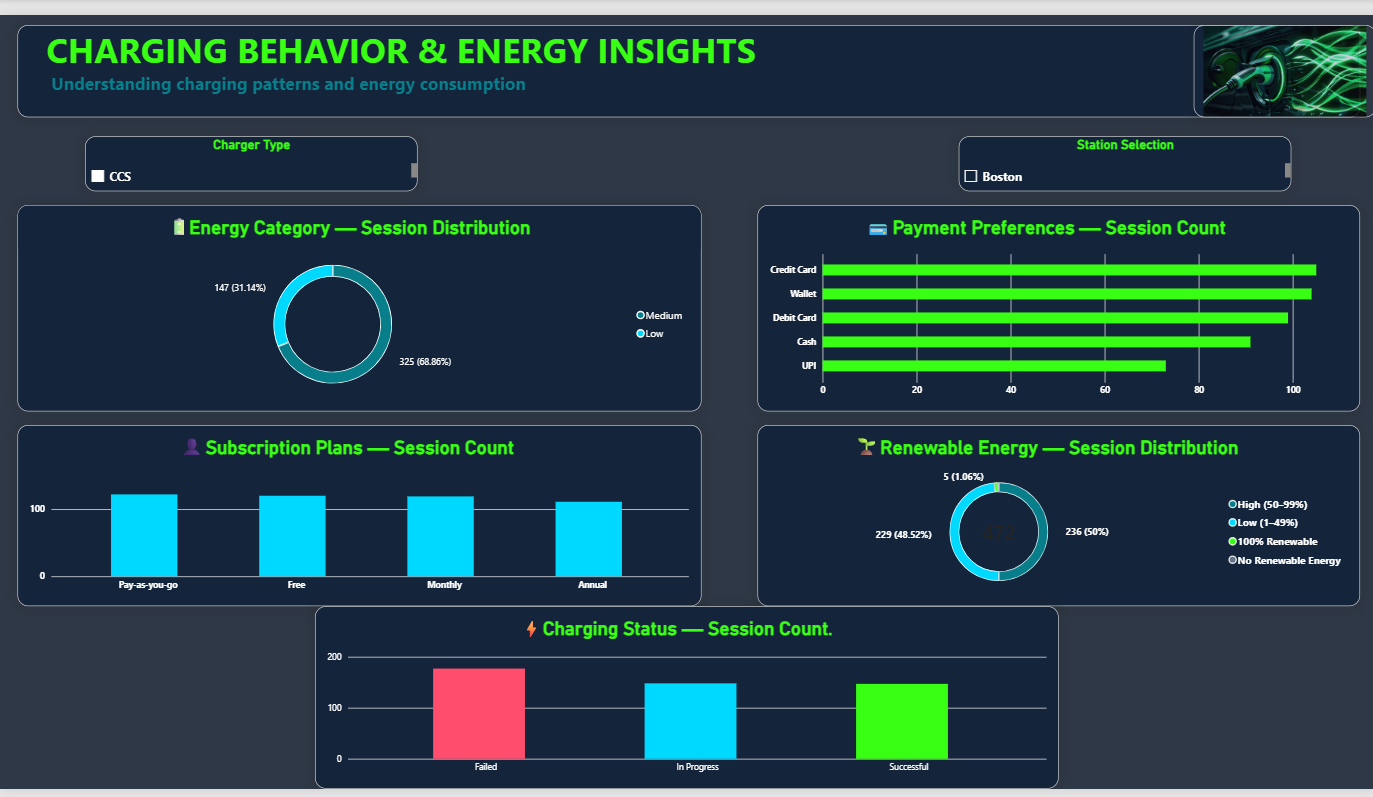

Layout of this report page (visuals, bound fields, positions):
{"tool":"powerbi","page":{"name":"Charging Network Performance & Utilization","canvas":[1920,1080],"ordinal":2},"visuals":[{"type":"textbox","title":"  CHARGING BEHAVIOR & ENERGY INSIGHTS","box":[24.4,14,1873.3,129.1],"z":0},{"type":"donutChart","title":"Energy Category — Session Distribution","fields":{"Category":["EV_Data.Energy Category"],"Y":["CountNonNull(EV_Data.Session ID)"]},"box":[24.4,265.1,954.1,287.8],"z":1000},{"type":"clusteredBarChart","title":"Payment Preferences — Session Count","fields":{"Category":["EV_Data.Payment Method"],"Y":["CountNonNull(EV_Data.Session ID)"]},"box":[1057,265.1,840.7,287.8],"z":2000},{"type":"clusteredColumnChart","title":"Subscription Plans — Session Count","fields":{"Category":["EV_Data.Subscription Plan"],"Y":["CountNonNull(EV_Data.Session ID)"]},"box":[24.4,572.1,954.1,252.9],"z":3000},{"type":"donutChart","title":"Renewable Energy — Session Distribution","fields":{"Category":["EV_Data.Renewable Energy Category"],"Y":["CountNonNull(EV_Data.Session ID)"]},"box":[1057,572.1,840.7,252.9],"z":4000},{"type":"clusteredColumnChart","title":"Charging Status — Session Count.","fields":{"Category":["EV_Data.Charging Status"],"Y":["CountNonNull(EV_Data.Session ID)"]},"box":[439.5,825,1037.8,254.7],"z":5000},{"type":"slicer","title":"Charger Type","fields":{"Values":["EV_Data.Connector Type"]},"box":[118.6,169.2,464,76.7],"z":6000},{"type":"slicer","title":"Station Selection","fields":{"Values":["EV_Data.Station Location"]},"box":[1337.8,169.2,464,76.7],"z":7000},{"type":"textbox","box":[233.7,279.1,205.8,76.7],"z":7001},{"type":"textbox","box":[1208.7,279.1,172.7,43.6],"z":7002},{"type":"textbox","box":[251.2,586,188.4,226.7],"z":7003},{"type":"textbox","box":[1193,586,167.4,214.5],"z":7004},{"type":"textbox","box":[725.6,839,153.5,240.7],"z":7005},{"type":"image","box":[1665.7,14,254.7,129.1],"z":7006}]}

Visuals, with their boxes on the page's 1920x1080 design canvas (x1, y1, x2, y2). These are canvas units, not pixel positions in the 1373x797 screenshot, which may show the page scaled, cropped or inside an application window:
"  CHARGING BEHAVIOR & ENERGY INSIGHTS" textbox: 24/14/1898/143
"Energy Category — Session Distribution" donutChart: 24/265/978/553
"Payment Preferences — Session Count" clusteredBarChart: 1057/265/1898/553
"Subscription Plans — Session Count" clusteredColumnChart: 24/572/978/825
"Renewable Energy — Session Distribution" donutChart: 1057/572/1898/825
"Charging Status — Session Count." clusteredColumnChart: 440/825/1477/1080
"Charger Type" slicer: 119/169/583/246
"Station Selection" slicer: 1338/169/1802/246
textbox: 234/279/440/356
textbox: 1209/279/1381/323
textbox: 251/586/440/813
textbox: 1193/586/1360/800
textbox: 726/839/879/1080
image: 1666/14/1920/143
